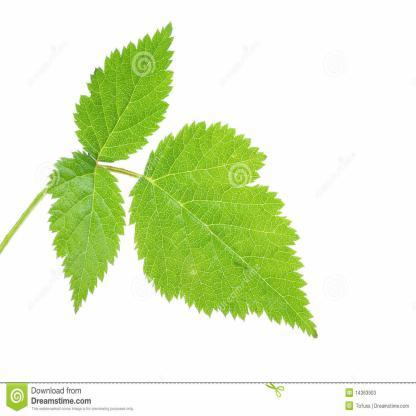Strawberry leaf: (126, 119, 328, 342), (74, 20, 180, 170), (50, 145, 133, 322)
